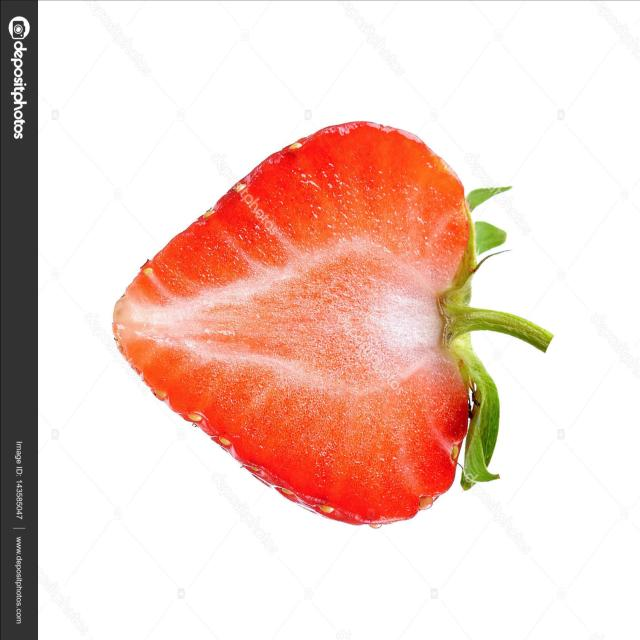strawberry: (96, 100, 550, 558)
